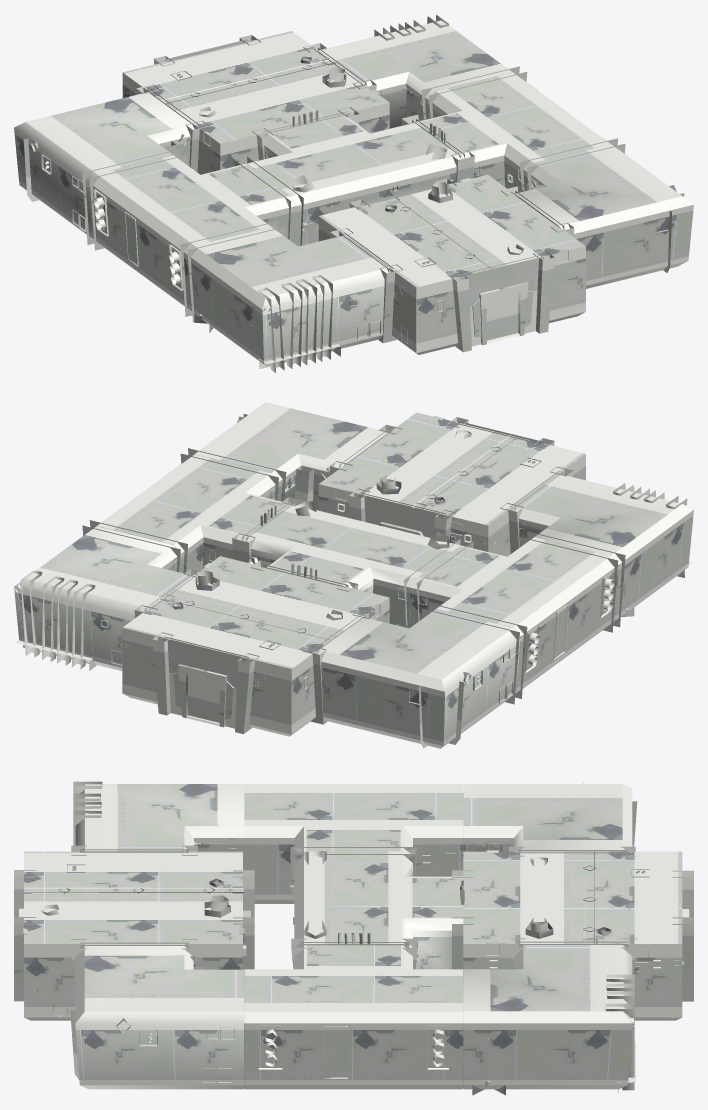
File: Combined_Mesh_root_scene__22_9f3a19a4__zombies2_diffuse_11_814463c1_c1f257.obj
The picture shows the model from 3 angles, top to bottom: view 1: azimuth 30°, elevation 25°; view 2: azimuth 150°, elevation 25°; view 3: azimuth 270°, elevation 25°; orthographic projection. The views are drawn at different scales.
Bounding box in the file's own units: 52.07 × 9.64 × 62.1.
Materials: 147 (147 with a texture image).
